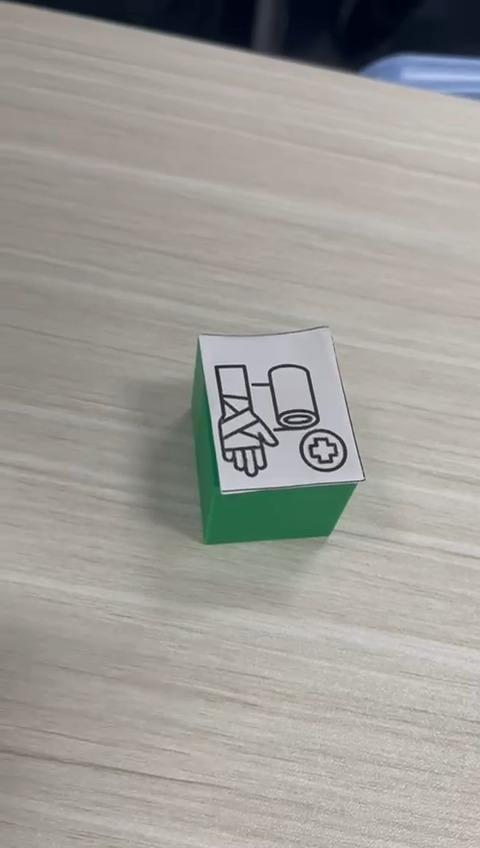Bandages: (190, 325, 366, 544)
